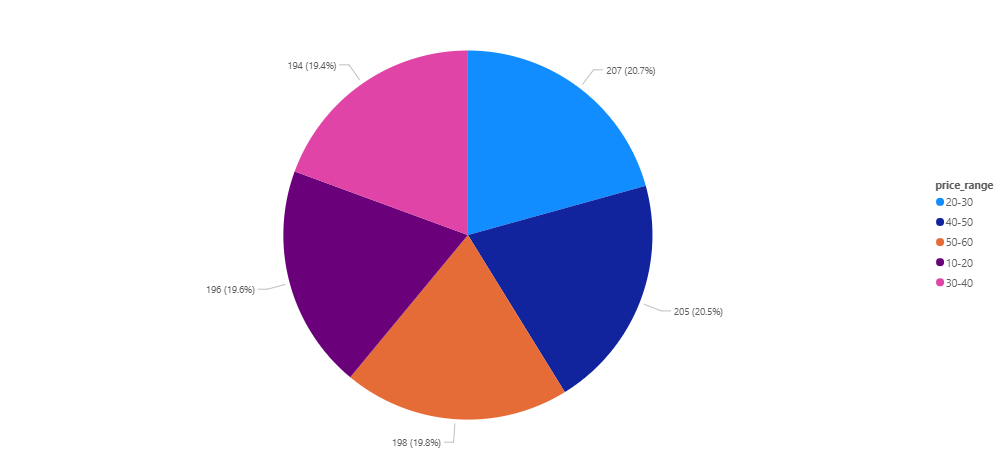

Layout of this report page (visuals, bound fields, positions):
{"tool":"powerbi","page":{"name":"books are distributed by price range","canvas":[1280,720],"ordinal":1},"visuals":[{"type":"pieChart","fields":{"Category":["analytics_gold price_books.price_range"],"Y":["Sum(analytics_gold price_books.total_books)"]},"box":[0,85.4,1279.4,634],"z":0}]}

Visuals, with their boxes on the page's 1280x720 design canvas (x1, y1, x2, y2). These are canvas units, not pixel positions in the 997x474 screenshot, which may show the page scaled, cropped or inside an application window:
pieChart - analytics_gold price_books.price_range x Sum(analytics_gold price_books.total_books): bbox=[0, 85, 1279, 719]
